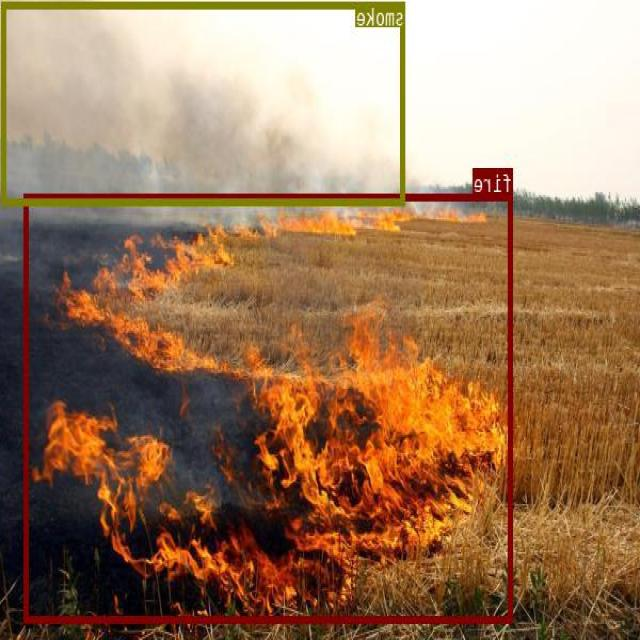fire: (25, 193, 513, 621)
smoke: (3, 0, 406, 204)
